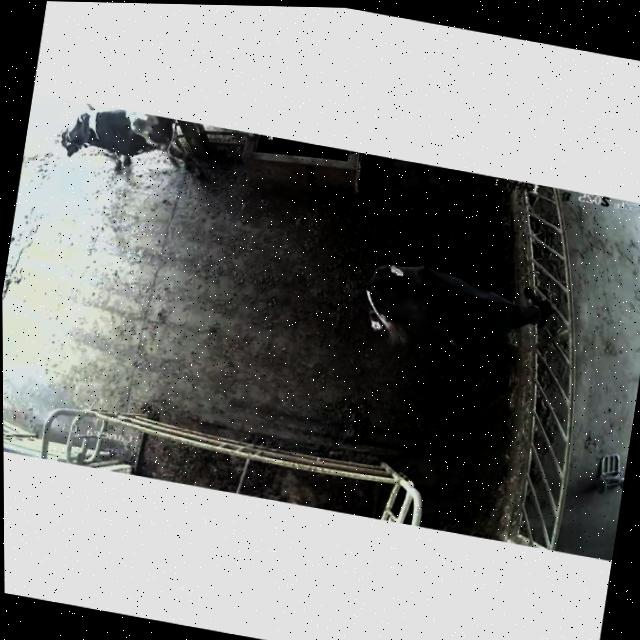stand: (43, 97, 183, 197)
